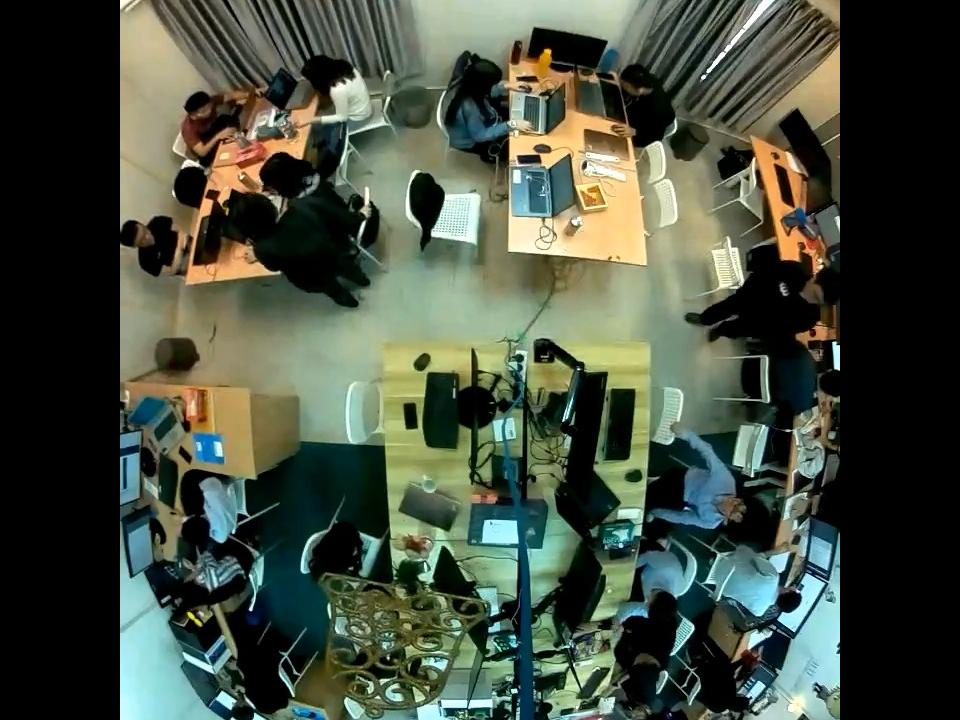name-tag: (777, 280, 793, 298)
